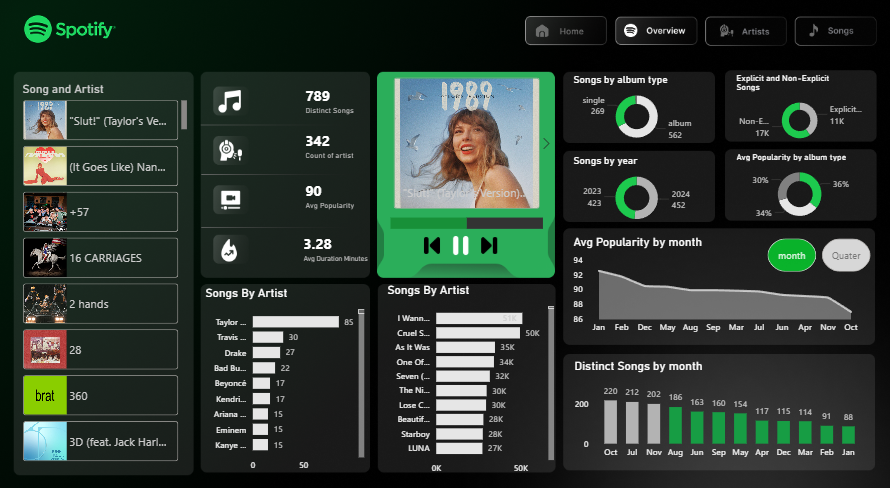

This screenshot's page, from the dashboard's own definition file:
{"tool":"powerbi","page":{"name":"Page 1","canvas":[1280,720],"ordinal":0},"visuals":[{"type":"clusteredBarChart","title":"Songs By Artist","fields":{"Y":["measuress.Distinct Songs"],"Category":["Top-50-world.artist"]},"box":[299,414,235,272],"z":0},{"type":"clusteredBarChart","title":"Songs By Artist","fields":{"Y":["Sum(Top-50-world.popularity)"],"Category":["Top-50-world.song"]},"box":[557,410,246,280],"z":1000},{"type":"areaChart","fields":{"Y":["measuress.Avg Popularity"],"Category":["Top-50-world.month"]},"box":[821.2,341.2,416.2,148.8],"z":2000},{"type":"advancedSlicerVisual","fields":{"Values":["Slicer_Option.Slicer_Option"]},"box":[1096.2,341.2,156.2,57.5],"z":3000},{"type":"donutChart","title":" Songs by album type","fields":{"Category":["Top-50-world.album_type"],"Y":["measuress.Distinct Songs"]},"box":[820.9,113.6,189.1,103.6],"z":4000},{"type":"donutChart","title":"Explicit and Non-Explicit Songs","fields":{"Y":["measuress.Explicit Songs","measuress.Non-Explicit Songs"]},"box":[1052.2,112.2,188.9,104.4],"z":5000},{"type":"donutChart","title":" Songs by year","fields":{"Category":["Top-50-world.Year"],"Y":["measuress.Distinct Songs"]},"box":[821.1,228.9,188.9,104.4],"z":6000},{"type":"donutChart","title":" Avg Popularity by album type","fields":{"Category":["Top-50-world.album_type"],"Y":["measuress.Avg Popularity"]},"box":[1051.1,224.4,188.9,104.4],"z":7000},{"type":"clusteredColumnChart","fields":{"Category":["Top-50-world.month"],"Y":["measuress.Distinct Songs"]},"box":[821.7,516.7,420,150],"z":8000},{"type":"cardVisual","fields":{"Data":["measuress.Distinct Songs"]},"box":[416.7,102.2,157.8,96.7],"z":9000},{"type":"cardVisual","fields":{"Data":["Count(Top-50-world.artist)"]},"box":[416.7,165.6,157.8,97.8],"z":10000},{"type":"cardVisual","fields":{"Data":["measuress.Avg Duration Minutes"]},"box":[413.3,315.6,241.1,87.8],"z":11000},{"type":"cardVisual","fields":{"Data":["measuress.Avg Popularity"]},"box":[416.7,236.7,157.8,96.7],"z":12000},{"type":"image","box":[316.9,346.9,50,31.9],"z":13000},{"type":"image","box":[315,276.9,50,31.9],"z":14000},{"type":"image","box":[314.4,205.6,50,31.9],"z":15000},{"type":"image","box":[313.8,136.2,50,31.9],"z":16000},{"type":"advancedSlicerVisual","title":"Song and Artist","fields":{"Values":["Top-50-world.song"]},"box":[40,125,243.3,548.3],"z":17000},{"type":"advancedSlicerVisual","title":"Song and Artist","fields":{"Values":["Top-50-world.song"]},"box":[546.2,113.8,257.5,196.2],"z":17001},{"type":"hundredPercentStackedBarChart","fields":{"Y":["measuress.Avg Popularity per Artist","measuress.Avg Popularity"]},"box":[561,284,226,76],"z":17002},{"type":"image","box":[608.3,343.3,34.2,26.7],"z":17003},{"type":"image","box":[690.8,343.3,31.7,26.7],"z":17004},{"type":"image","box":[646.7,343.3,39.2,26.7],"z":17005}]}

Visuals, with their boxes in screenshot pixels (x1, y1, x2, y2), scaled from the page's 1280x720 canvas onto the 890x488 screenshot:
"Songs By Artist" clusteredBarChart: crop(208, 281, 371, 465)
"Songs By Artist" clusteredBarChart: crop(387, 278, 558, 468)
areaChart - measuress.Avg Popularity x Top-50-world.month: crop(571, 231, 860, 332)
advancedSlicerVisual - Slicer_Option.Slicer_Option: crop(762, 231, 871, 270)
" Songs by album type" donutChart: crop(571, 77, 702, 147)
"Explicit and Non-Explicit Songs" donutChart: crop(732, 76, 863, 147)
" Songs by year" donutChart: crop(571, 155, 702, 226)
" Avg Popularity by album type" donutChart: crop(731, 152, 862, 223)
clusteredColumnChart - Top-50-world.month x measuress.Distinct Songs: crop(571, 350, 863, 452)
cardVisual - measuress.Distinct Songs: crop(290, 69, 399, 135)
cardVisual - Count(Top-50-world.artist): crop(290, 112, 399, 179)
cardVisual - measuress.Avg Duration Minutes: crop(287, 214, 455, 273)
cardVisual - measuress.Avg Popularity: crop(290, 160, 399, 226)
image: crop(220, 235, 255, 257)
image: crop(219, 188, 254, 209)
image: crop(219, 139, 253, 161)
image: crop(218, 92, 253, 114)
"Song and Artist" advancedSlicerVisual: crop(28, 85, 197, 456)
"Song and Artist" advancedSlicerVisual: crop(380, 77, 559, 210)
hundredPercentStackedBarChart - measuress.Avg Popularity per Artist x measuress.Avg Popularity: crop(390, 192, 547, 244)
image: crop(423, 233, 447, 251)
image: crop(480, 233, 502, 251)
image: crop(450, 233, 477, 251)
